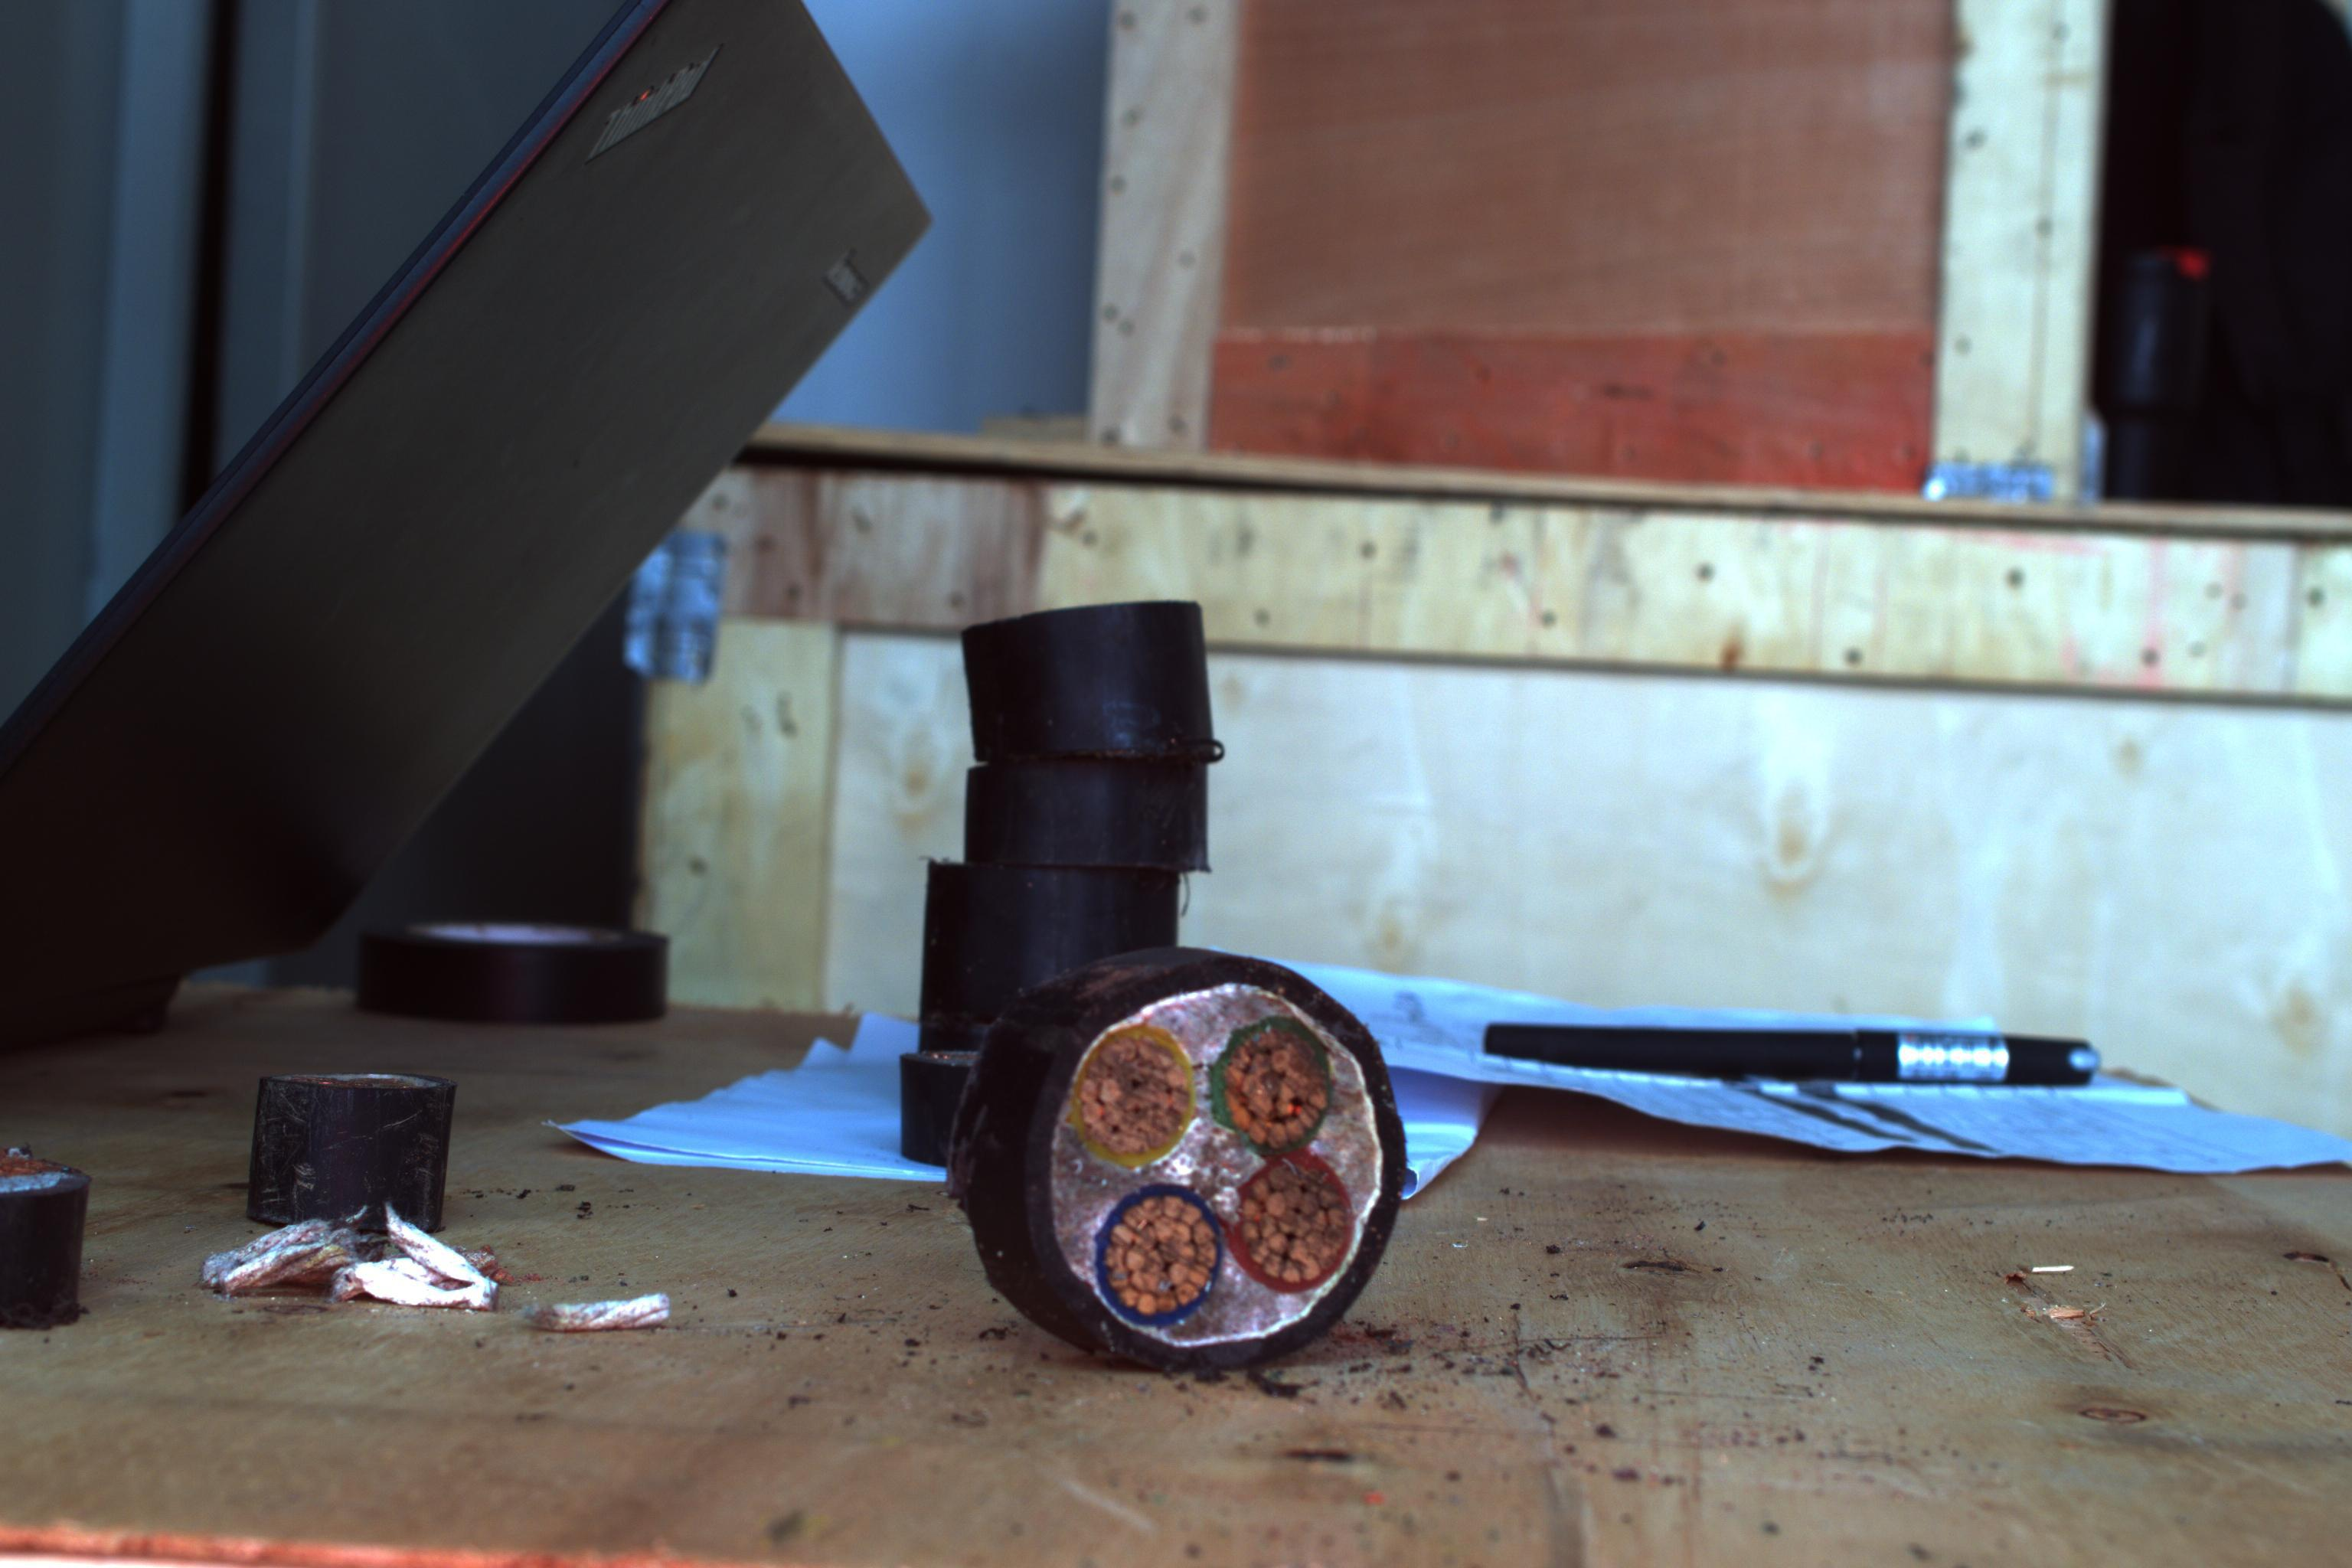YJV_0.6_1kV_4x120: (1008, 950, 1410, 1379)
